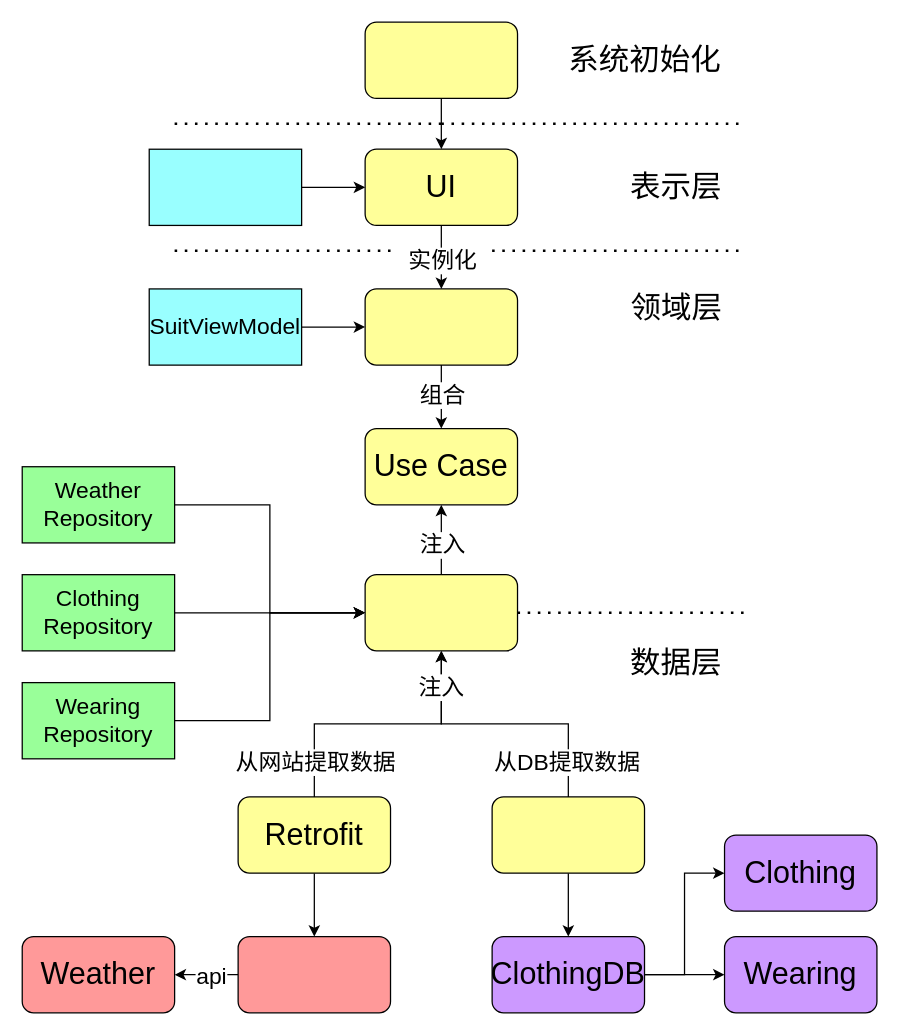
This 899x1035 diagram has some shape labels left out. The centre of each missing label's shape, as x and y in pixels:
"Application" goes at [441,59].
"Repository" goes at [441,612].
"ROOM" goes at [568,834].
"SuitScreen" goes at [225,186].
"ViewModel" goes at [441,326].
"Weather Server" goes at [314,974].
